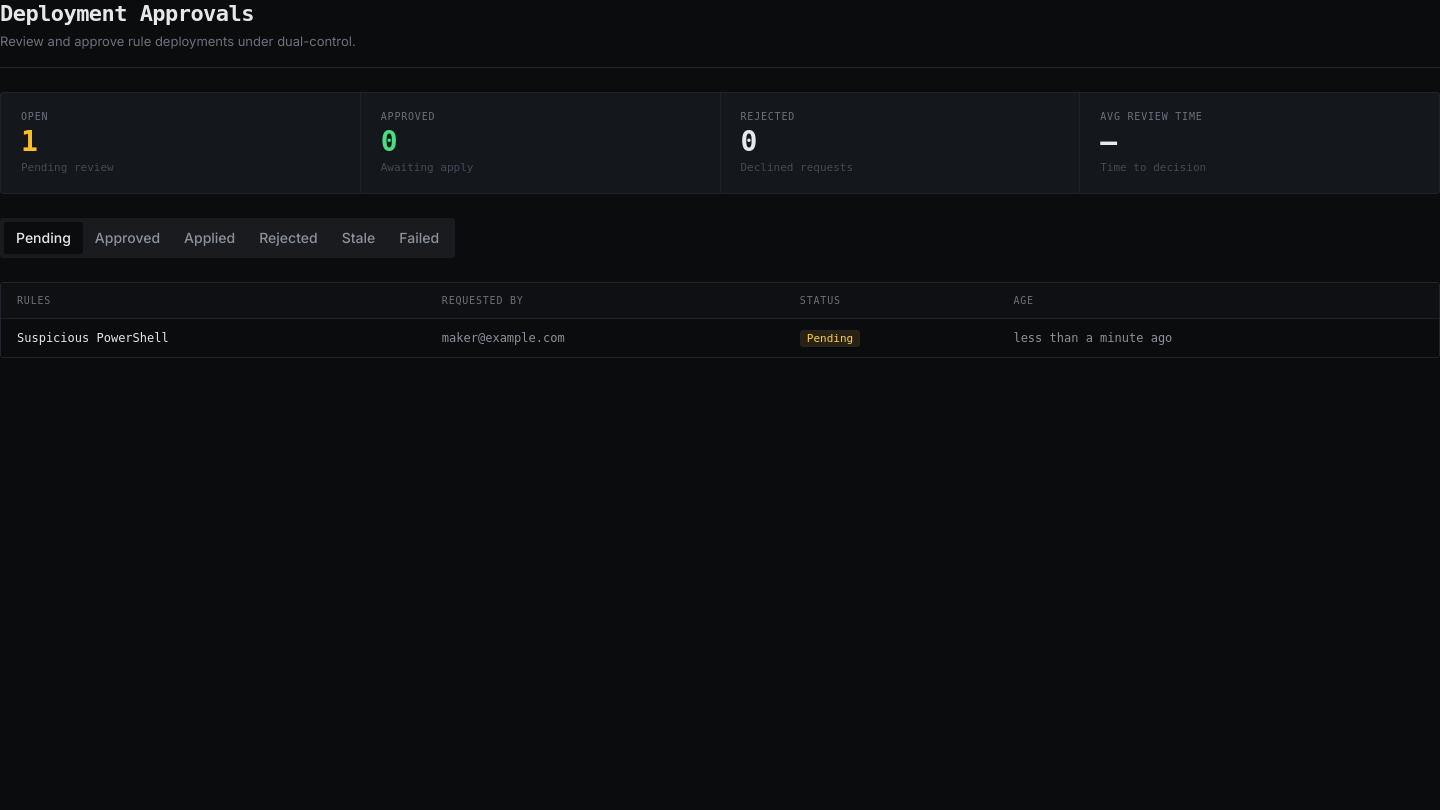
Scenario: ApprovalsPage › disables Approve when the current user is the requester (self-review)
This screenshot has width=1440, height=810.
Click the text "Suspicious PowerShell" at (93, 338), box top-left (17, 329), bottom-right (169, 347)
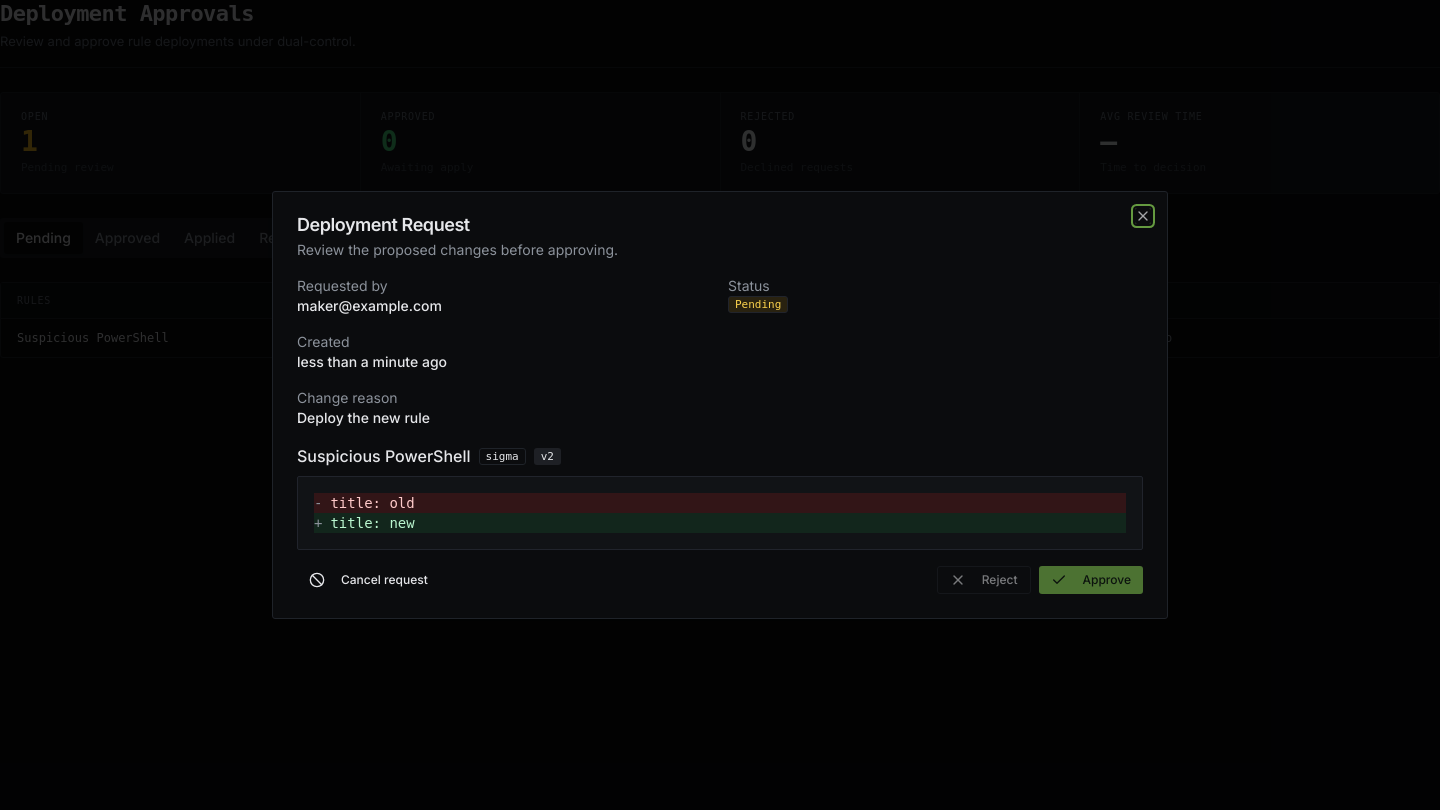
Expected: the button "Approve" is disabled, top-left (1038, 566), bottom-right (1143, 594)
